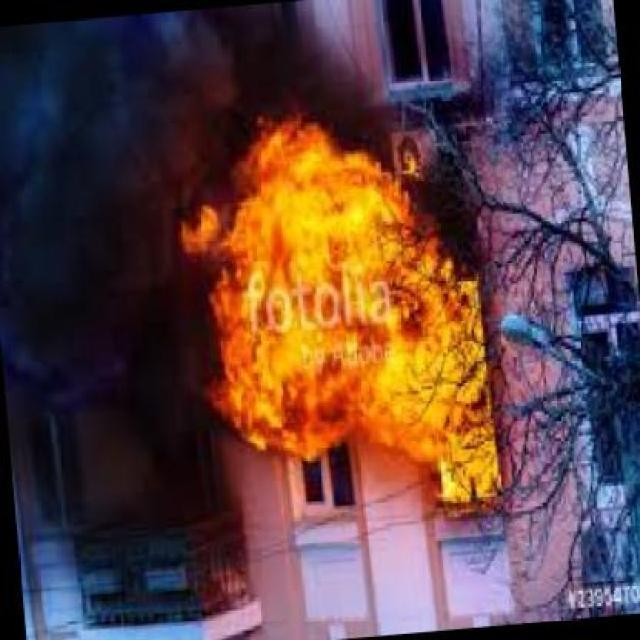Fire: (185, 122, 516, 502)
Smoke: (7, 34, 176, 424), (184, 1, 402, 98)
